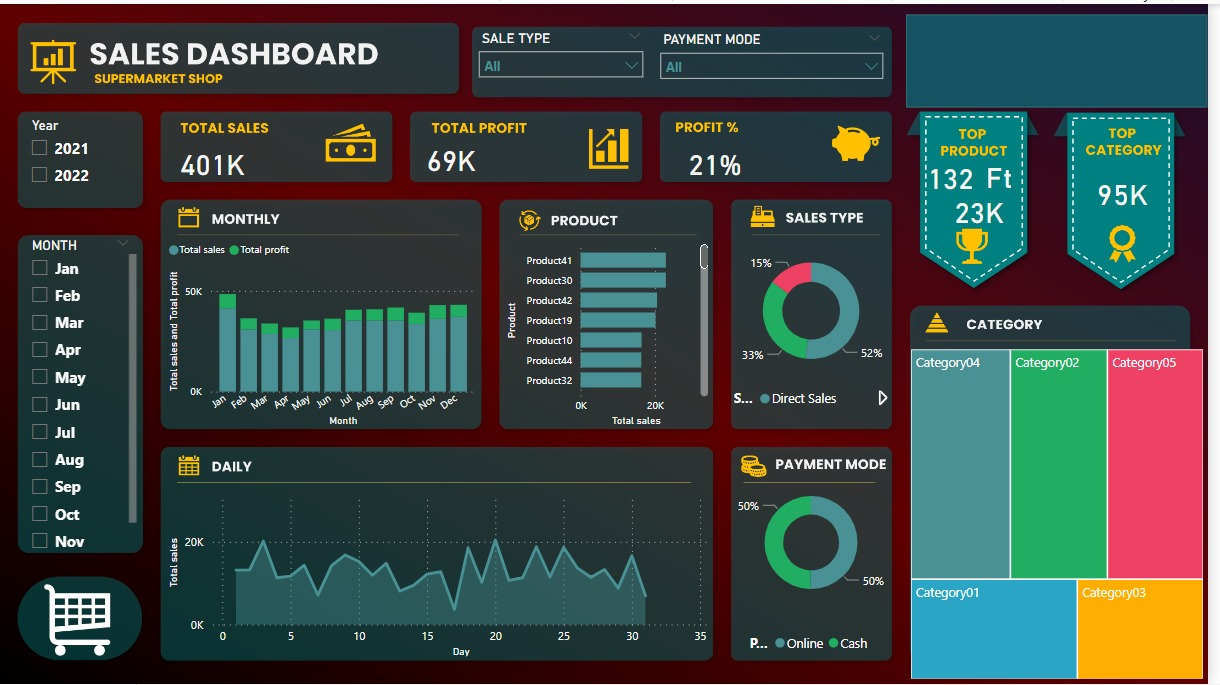

This screenshot's page, from the dashboard's own definition file:
{"tool":"powerbi","page":{"name":"Sales dashboard","canvas":[1280,720],"ordinal":0},"visuals":[{"type":"slicer","fields":{"Values":["InputData.Year"]},"box":[20.7,114.4,128.7,93.8],"z":0},{"type":"slicer","fields":{"Values":["InputData.SALE TYPE"]},"box":[497.5,22.3,193.9,76.3],"z":1000},{"type":"slicer","fields":{"Values":["InputData.PAYMENT MODE"]},"box":[689.8,23.8,255.9,73.1],"z":2000},{"type":"slicer","fields":{"Values":["InputData.Month Name"]},"box":[20.7,241.6,128.7,343.3],"z":3000},{"type":"card","fields":{"Values":["Sum(InputData.Total selling value)"]},"box":[173.2,143,103.3,50.9],"z":4000},{"type":"card","fields":{"Values":["InputData.Profit %"]},"box":[691.4,144.6,131.9,46.1],"z":5000},{"type":"card","fields":{"Values":["Sum(InputData.Total selling value)"]},"box":[1142.8,173.2,92.2,54],"z":6000},{"type":"card","fields":{"Values":["Sum(InputData.Total selling value)"]},"box":[995,195.5,84.2,46.1],"z":7000},{"type":"card","fields":{"Values":["Min(InputData.MasterData.UOM)"]},"box":[1037.9,163.7,41.3,36.6],"z":8000},{"type":"card","fields":{"Values":["Sum(InputData.QUANTITY)"]},"box":[975.9,152.6,62,60.4],"z":9000},{"type":"card","fields":{"Values":["InputData.Total profit"]},"box":[424.4,143,106.5,41.3],"z":10000},{"type":"columnChart","fields":{"Category":["InputData.Month Name"],"Y":["Sum(InputData.Total selling value)","InputData.Total profit"]},"box":[173.2,241.6,335.4,209.8],"z":11000},{"type":"clusteredBarChart","fields":{"Y":["Sum(InputData.Total selling value)"],"Category":["InputData.MasterData.PRODUCT"]},"box":[530.9,241.6,224.1,209.8],"z":12000},{"type":"areaChart","fields":{"Y":["Sum(InputData.Total selling value)"],"Category":["InputData.Day"]},"box":[173.2,511.8,583.3,184.4],"z":13000},{"type":"donutChart","fields":{"Category":["InputData.SALE TYPE"],"Y":["Sum(InputData.Total selling value)"]},"box":[772.5,241.6,173.2,195.5],"z":14000},{"type":"donutChart","fields":{"Category":["InputData.PAYMENT MODE"],"Y":["Sum(InputData.Total selling value)"]},"box":[772.5,473.6,173.2,222.5],"z":15000},{"type":"treemap","fields":{"Group":["InputData.MasterData.CATEGORY"],"Values":["Sum(InputData.Total selling value)"]},"box":[960,360.8,319.5,359.2],"z":16000},{"type":"shape","box":[960,11.1,319.5,98.5],"z":16003}]}

Visuals, with their boxes in screenshot pixels (x1, y1, x2, y2), scaled from the page's 1280x720 canvas onto the 1220x685 screenshot:
slicer - InputData.Year: <bbox>20, 109, 142, 198</bbox>
slicer - InputData.SALE TYPE: <bbox>474, 21, 659, 94</bbox>
slicer - InputData.PAYMENT MODE: <bbox>657, 23, 901, 92</bbox>
slicer - InputData.Month Name: <bbox>20, 230, 142, 556</bbox>
card - Sum(InputData.Total selling value): <bbox>165, 136, 264, 184</bbox>
card - InputData.Profit %: <bbox>659, 138, 785, 181</bbox>
card - Sum(InputData.Total selling value): <bbox>1089, 165, 1177, 216</bbox>
card - Sum(InputData.Total selling value): <bbox>948, 186, 1029, 230</bbox>
card - Min(InputData.MasterData.UOM): <bbox>989, 156, 1029, 191</bbox>
card - Sum(InputData.QUANTITY): <bbox>930, 145, 989, 203</bbox>
card - InputData.Total profit: <bbox>405, 136, 506, 175</bbox>
columnChart - InputData.Month Name x Sum(InputData.Total selling value): <bbox>165, 230, 485, 429</bbox>
clusteredBarChart - Sum(InputData.Total selling value) x InputData.MasterData.PRODUCT: <bbox>506, 230, 720, 429</bbox>
areaChart - Sum(InputData.Total selling value) x InputData.Day: <bbox>165, 487, 721, 662</bbox>
donutChart - InputData.SALE TYPE x Sum(InputData.Total selling value): <bbox>736, 230, 901, 416</bbox>
donutChart - InputData.PAYMENT MODE x Sum(InputData.Total selling value): <bbox>736, 451, 901, 662</bbox>
treemap - InputData.MasterData.CATEGORY x Sum(InputData.Total selling value): <bbox>915, 343, 1219, 684</bbox>
shape: <bbox>915, 11, 1219, 104</bbox>
